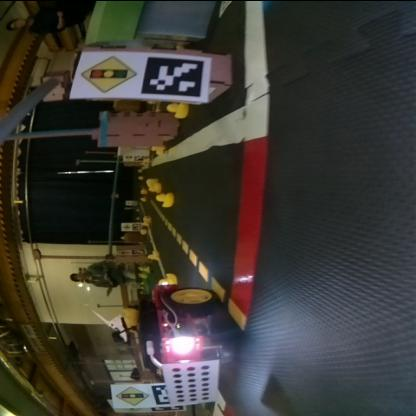Duckie: (166, 102, 188, 116), (156, 192, 173, 206), (158, 272, 176, 282), (150, 144, 164, 152), (147, 250, 159, 258), (148, 182, 160, 190)
Duckiebot: (138, 282, 223, 404)
QR code: (140, 54, 204, 96)
Signal sign: (80, 54, 138, 91), (116, 384, 144, 404)
